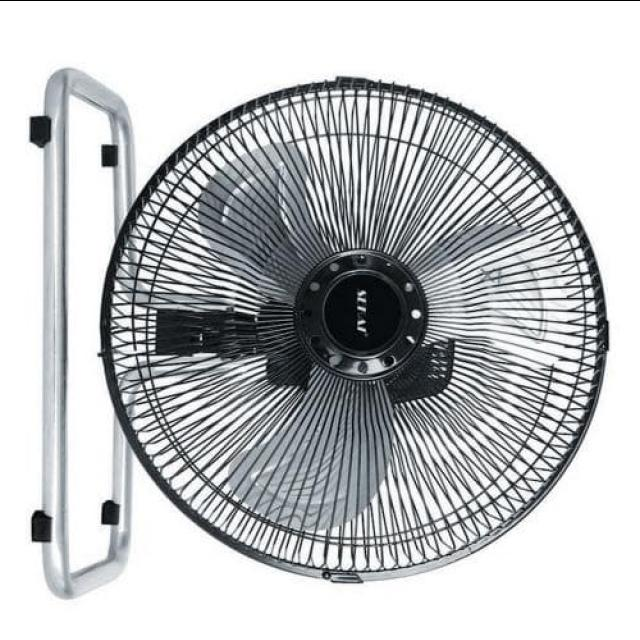fan: (24, 69, 612, 603)
